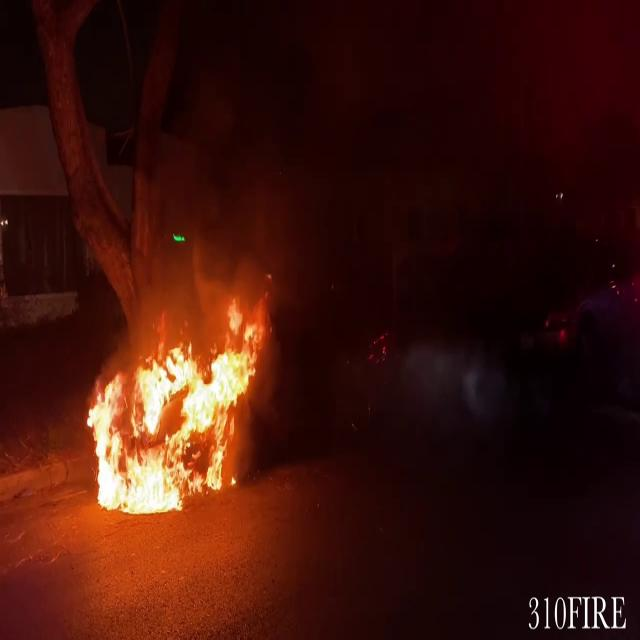Fire: (81, 294, 267, 518)
Smoke: (136, 0, 371, 309)
